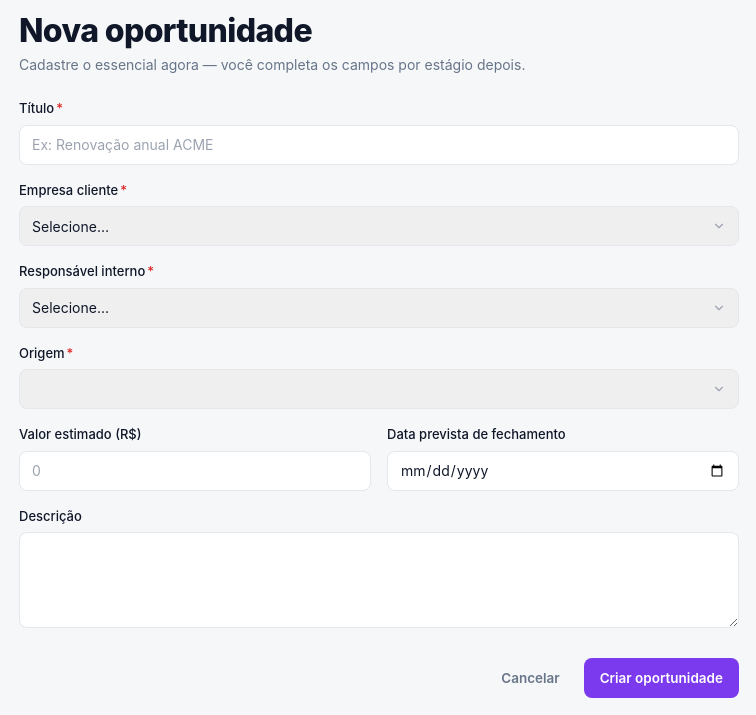
it: /pipeline/new (P-53 piloto Testing Library) › Valor estimado filtra caracteres não-numéricos
Type "abc123def" into the field labelled "Valor estimado (R$)" at (195, 471), box left=19, top=451, right=371, bottom=491
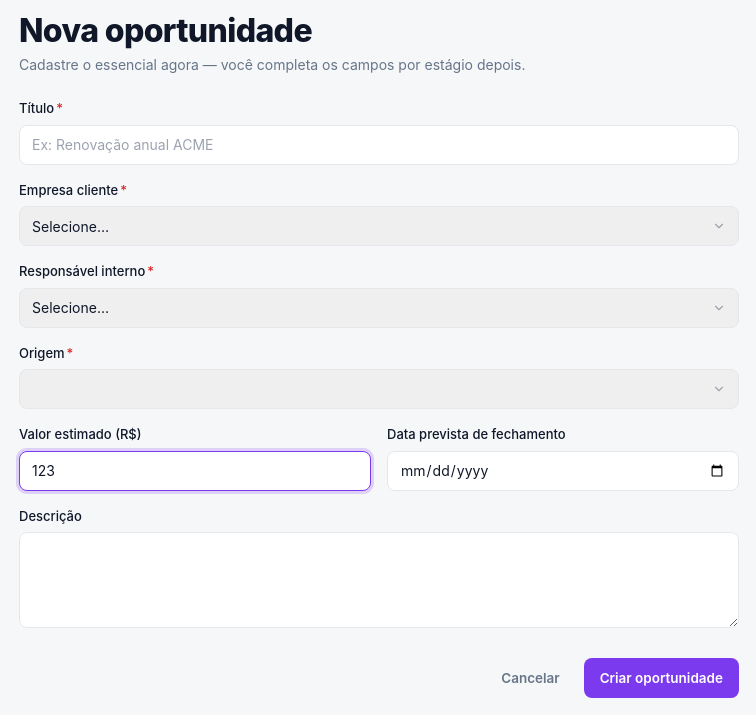
expect the field labelled "Valor estimado (R$)" holds "123": met, box left=19, top=451, right=371, bottom=491
